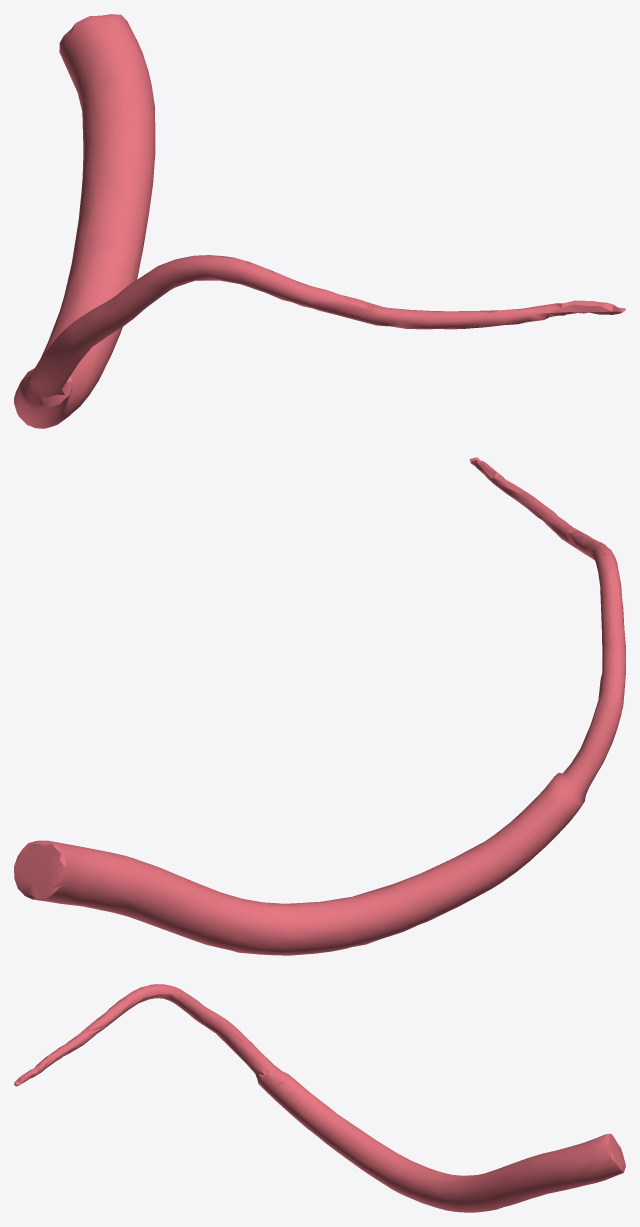
Rendered from fma4714_mm452.glb.
The picture shows the model from 3 angles, top to bottom: view 1: azimuth 30°, elevation 25°; view 2: azimuth 150°, elevation 25°; view 3: azimuth 270°, elevation 25°; orthographic projection. The views are drawn at different scales.
Visible parts, largest first — view 1: FMA4714_MM452; view 2: FMA4714_MM452; view 3: FMA4714_MM452.
Boxes of the visible parts, bbox=[...] form: FMA4714_MM452: bbox=[14, 14, 625, 428]; FMA4714_MM452: bbox=[14, 457, 625, 955]; FMA4714_MM452: bbox=[14, 984, 625, 1212].
Size of the model in its own units: 0.0242 by 0.0188 by 0.0555.
